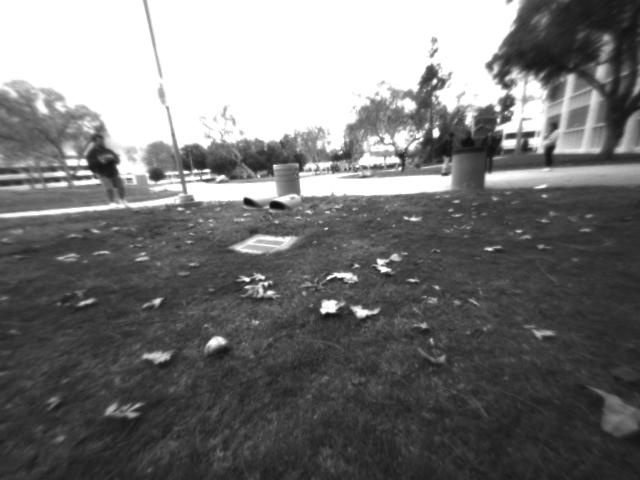trashcan: (454, 150, 485, 193), (273, 163, 305, 199)
